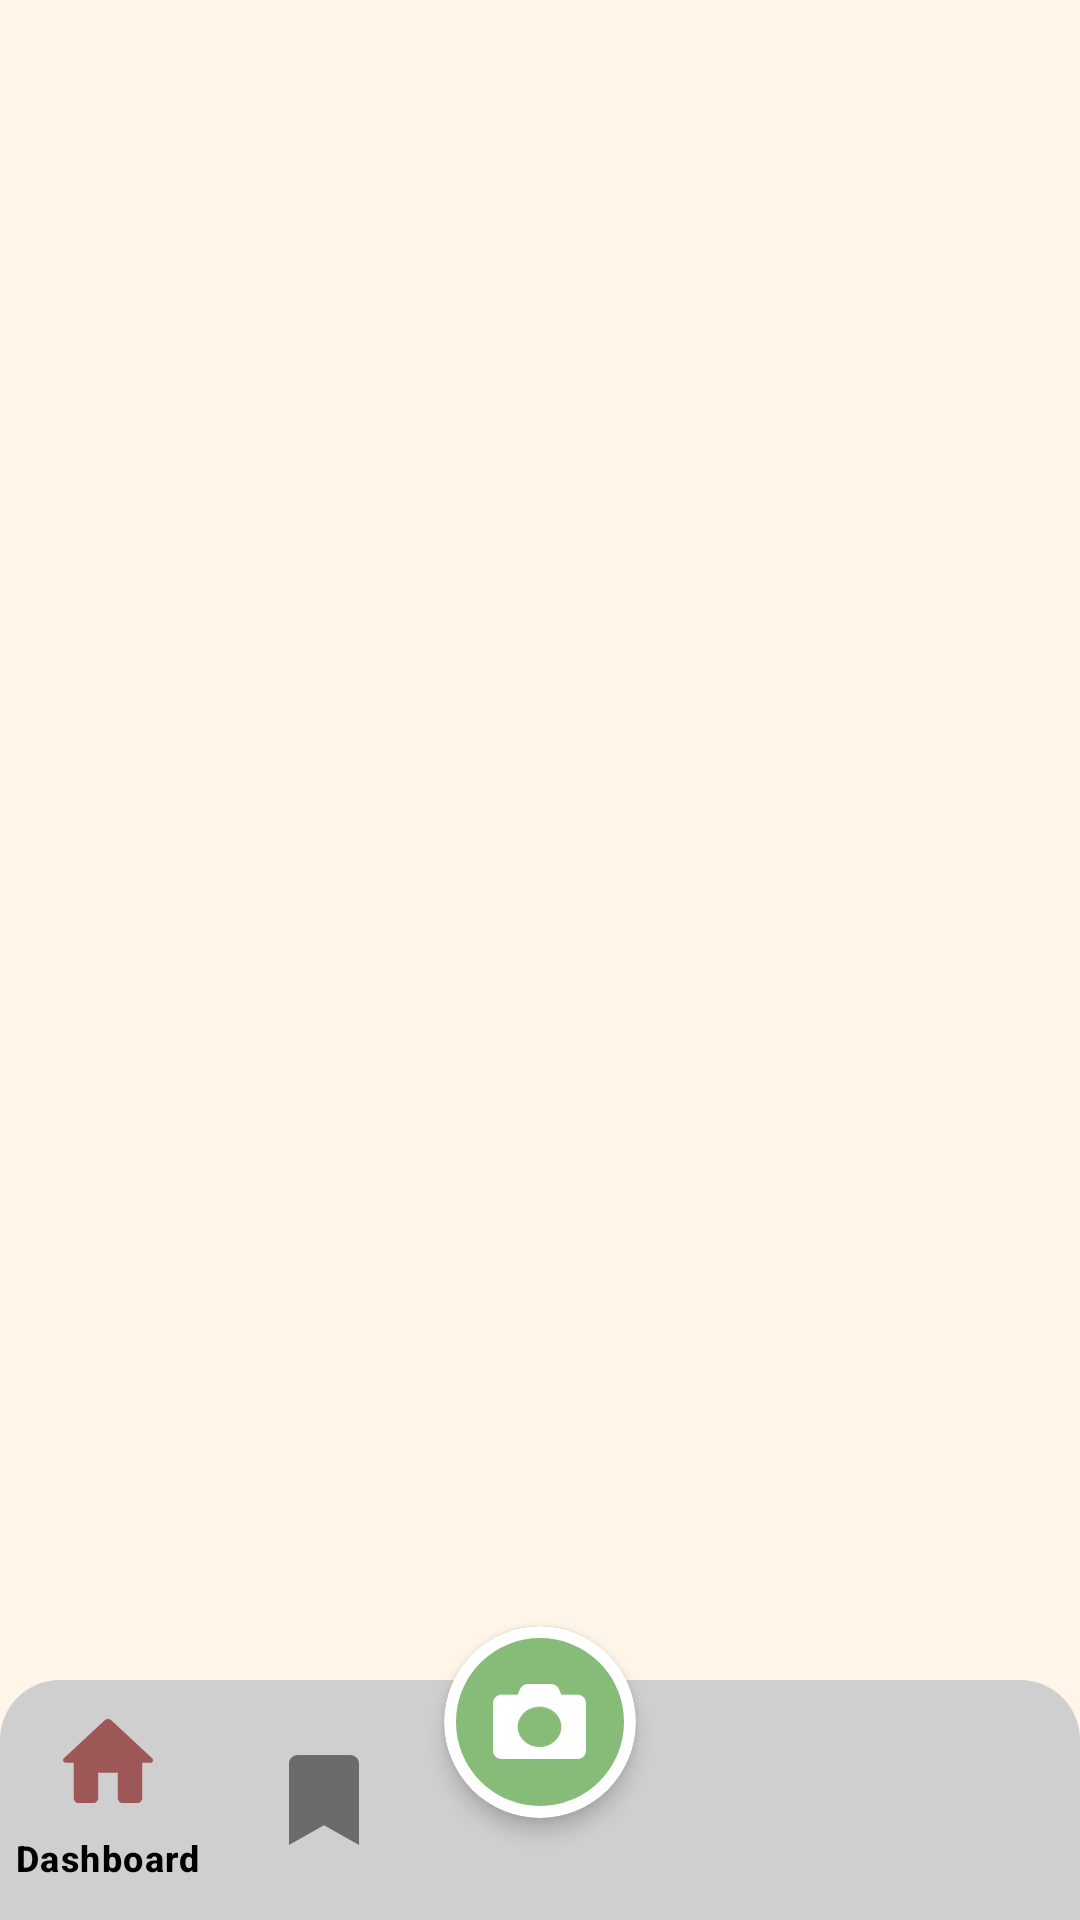

Icons on this 1080 × 1920 Android screen, each with its box as (x1, y1, x2, y2):
cameras: (493, 1684, 586, 1759)
